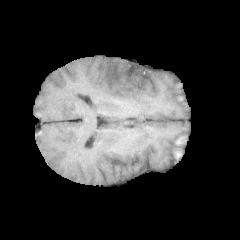glioma: (99, 60, 148, 100)
